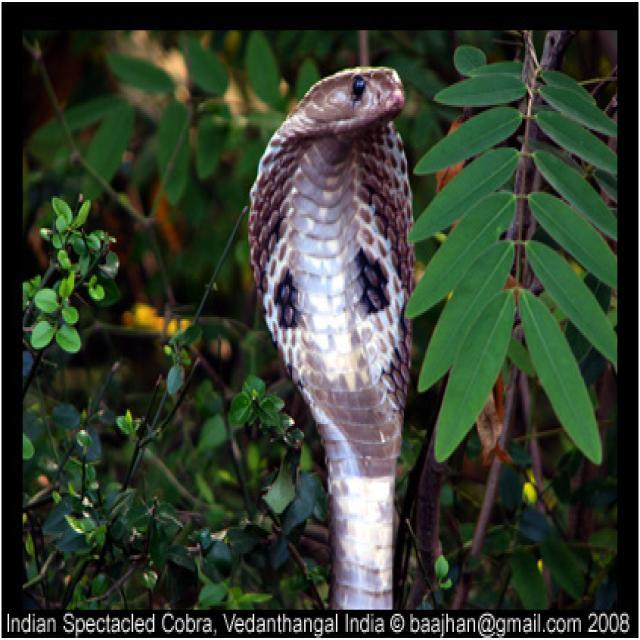Snake: (245, 62, 416, 610)
